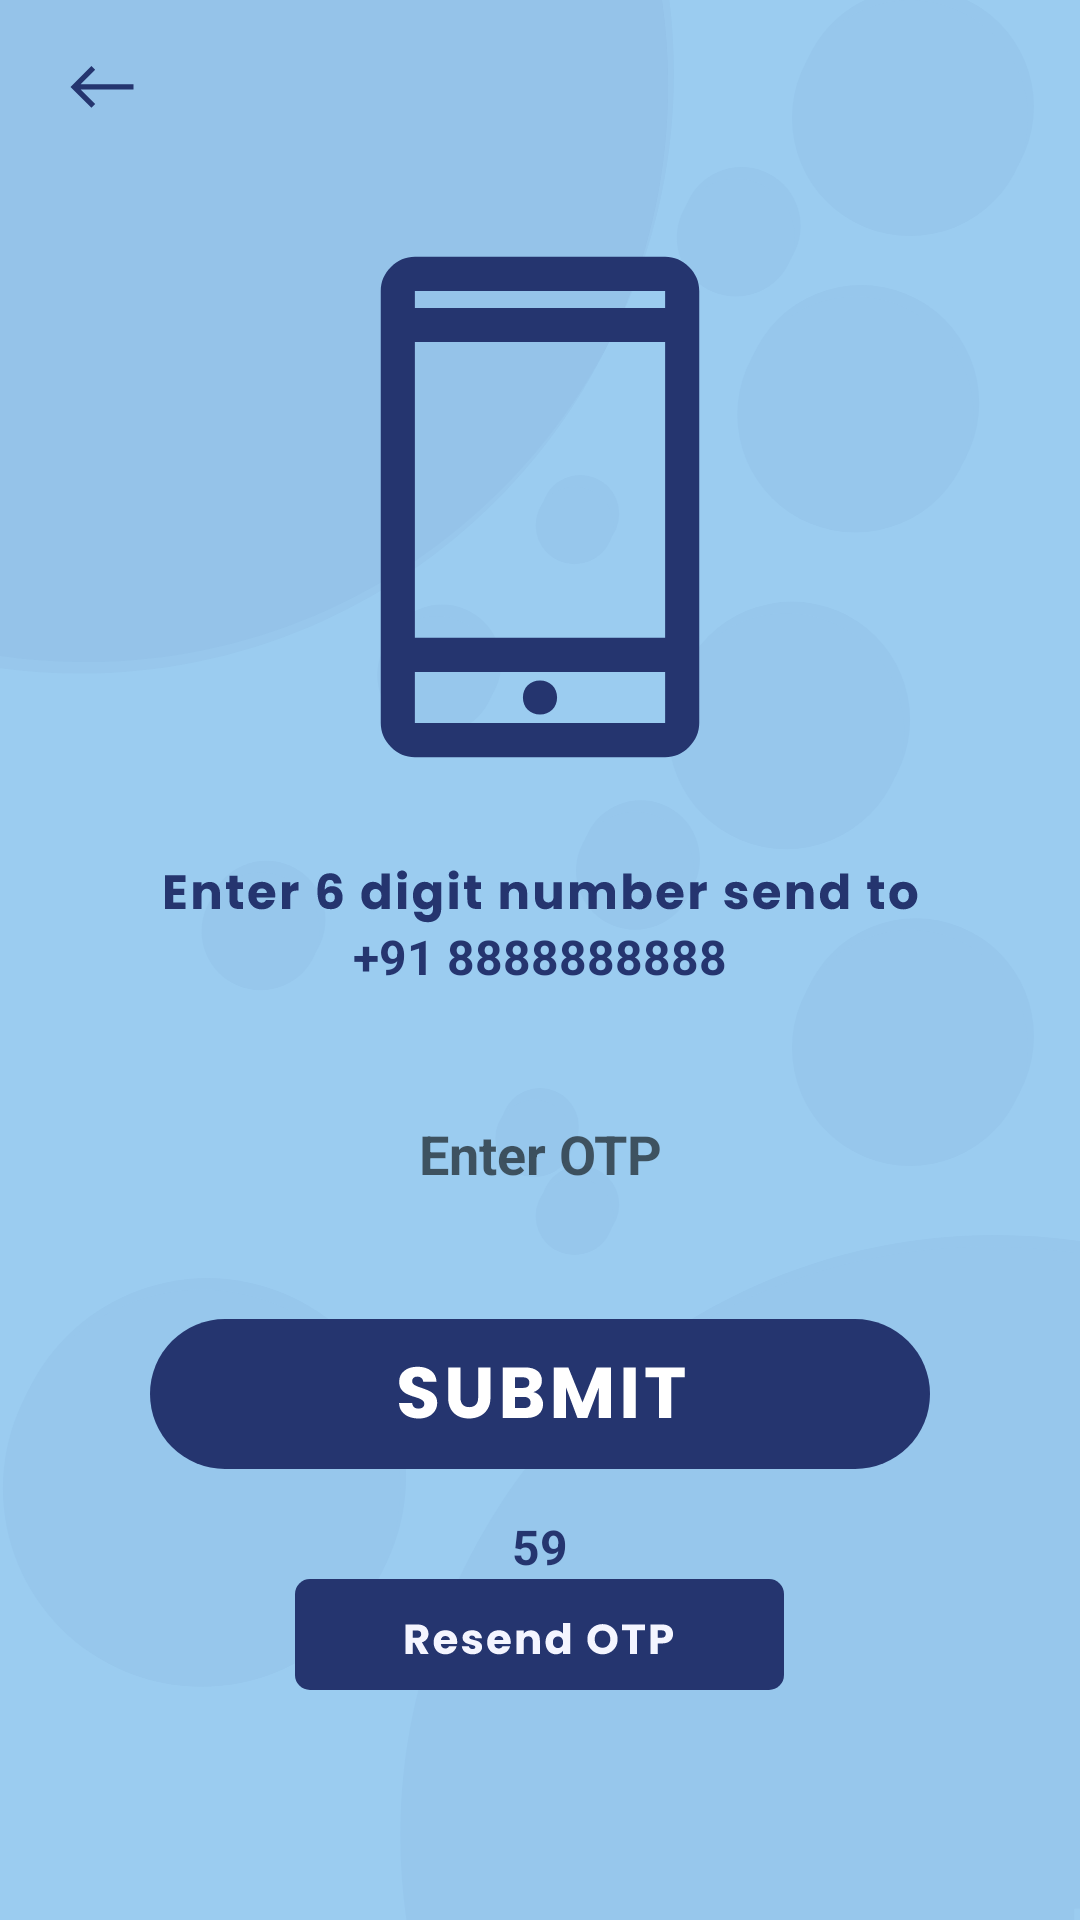

Icons on this 1080 x 1920 Android screen, each with the point to tap as point (x, y):
back: point (102, 87)
